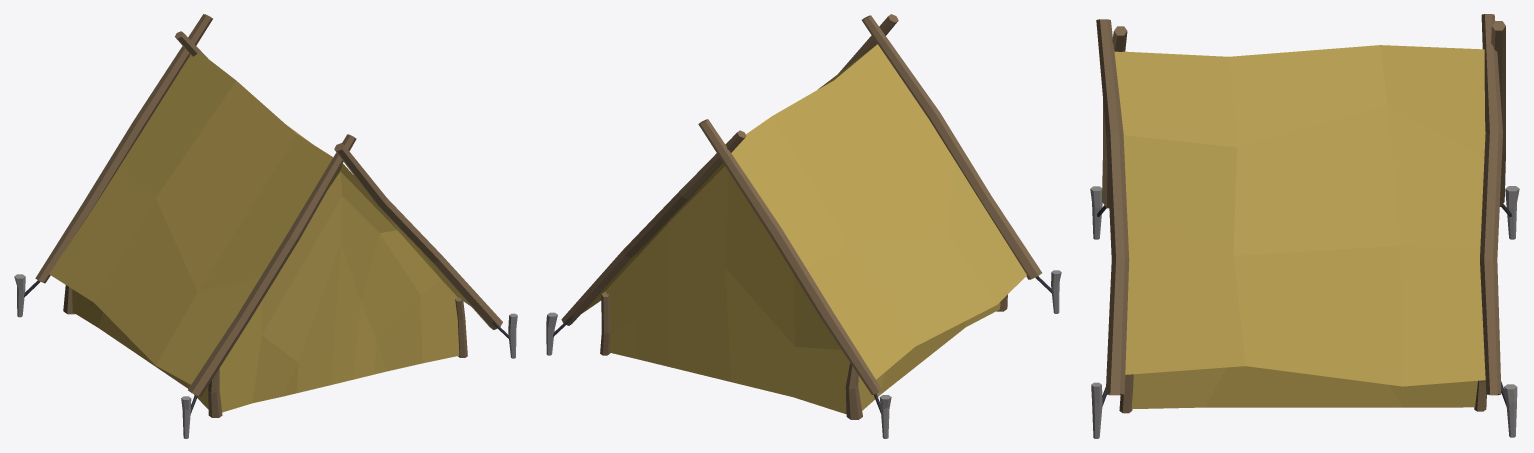
Rendered from tent_4.glb.
3 renders of one model, left to right at view 1: azimuth 30°, elevation 25°; view 2: azimuth 150°, elevation 25°; view 3: azimuth 270°, elevation 25°, orthographic. The views are drawn at different scales.
Visible parts, largest first — view 1: tent_4; view 2: tent_4; view 3: tent_4.
Boxes of the visible parts, x1,y1,x2,y2 form: tent_4: (14, 14, 517, 438); tent_4: (546, 14, 1061, 438); tent_4: (1090, 14, 1519, 438).
Bounding box in the file's own units: 2.36 × 1.76 × 2.09.
Materials: 1 (1 with a texture image).
